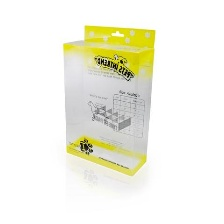plastic_box: (56, 15, 166, 183)
